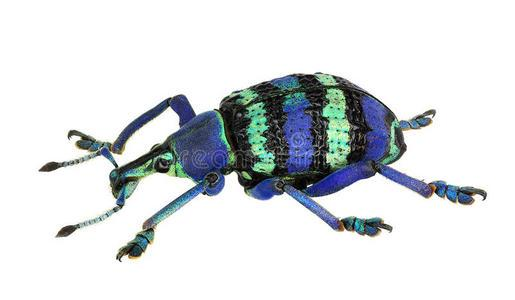Curculionidae: (38, 72, 486, 264)
